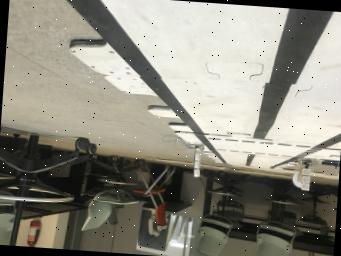street: (101, 0, 341, 168), (101, 0, 341, 168), (101, 0, 341, 168), (72, 39, 154, 95), (72, 39, 154, 95), (72, 39, 154, 95)
traffic_light: (192, 145, 200, 177), (192, 145, 200, 177), (192, 145, 200, 177), (300, 165, 310, 190), (300, 165, 310, 190), (300, 165, 310, 190)
